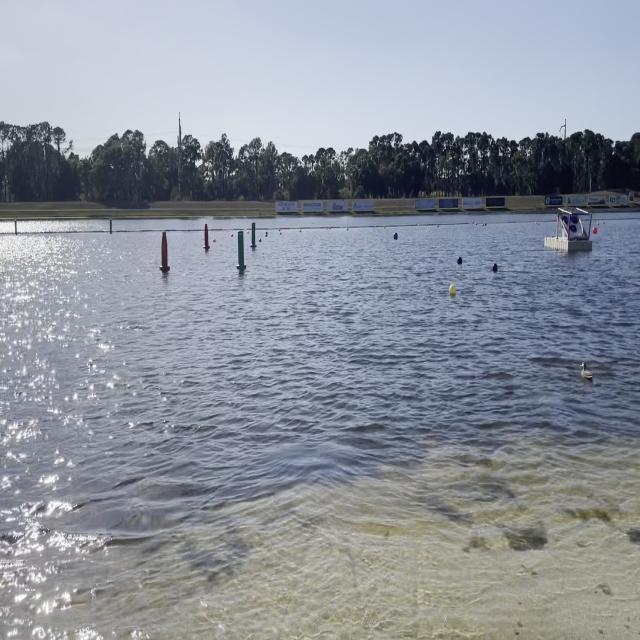buoy: (449, 285, 456, 297), (492, 264, 498, 272), (457, 256, 463, 264), (393, 233, 398, 239), (258, 238, 262, 243), (212, 238, 215, 243)
